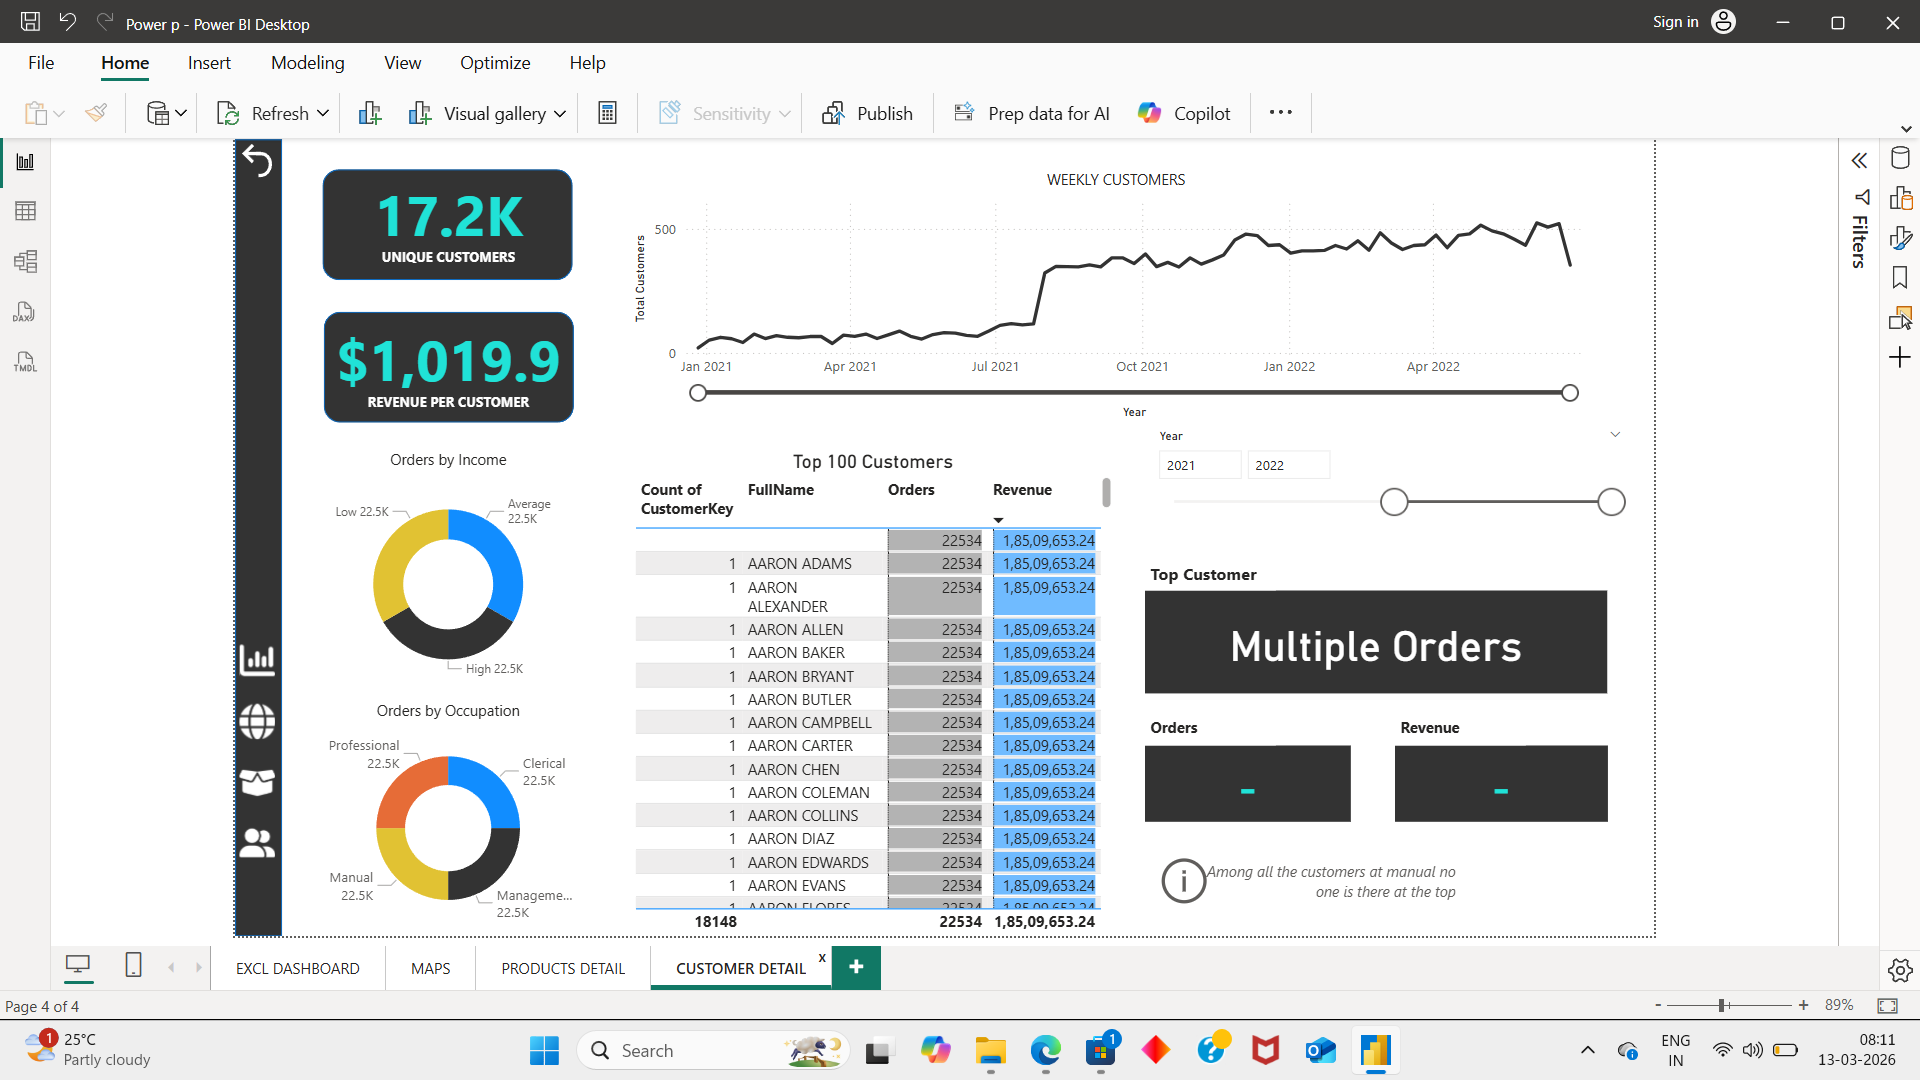

Layout of this report page (visuals, bound fields, positions):
{"tool":"powerbi","page":{"name":"CUSTOMER DETAIL ","canvas":[1280,720],"ordinal":3},"visuals":[{"type":"shape","box":[78.9,27.8,225.6,100],"z":0},{"type":"shape","box":[80,156.7,225.6,100],"z":1000},{"type":"card","fields":{"Values":["Measure Table.Total Customers"]},"box":[74.4,0,236.7,150],"z":2000},{"type":"shape","box":[0,1.2,42.5,718.8],"z":3000},{"type":"card","fields":{"Values":["Measure Table.Average Revenue Per Customer"]},"box":[74.4,131.1,236.7,150],"z":4000},{"type":"lineChart","title":"WEEKLY CUSTOMERS","fields":{"Category":["Calendar Lookup.Start of Week.Variation.Date Hierarchy.Year","Calendar Lookup.Start of Week.Variation.Date Hierarchy.Quarter","Calendar Lookup.Start of Week.Variation.Date Hierarchy.Month","Calendar Lookup.Start of Week.Variation.Date Hierarchy.Day"],"Y":["Measure Table.Total Customers"]},"box":[355,28.2,879.2,228.8],"z":5000},{"type":"donutChart","title":"Orders by Income ","fields":{"Category":["Customer Lookup.Income Level"],"Y":["Measure Table.Total Orders"]},"box":[74.3,280.4,236.1,226.5],"z":6000},{"type":"donutChart","title":"Orders by Occupation","fields":{"Category":["Customer Lookup.Occupation"],"Y":["Measure Table.Total Orders"]},"box":[74,507,236,213],"z":7000},{"type":"tableEx","title":"Top 100 Customers","fields":{"Values":["CountNonNull(Customer Lookup.CustomerKey)","Customer Lookup.FullName","Measure Table.Total Orders","Measure Table.Total Revenue"]},"box":[354.6,281.3,440.2,439],"z":8000},{"type":"card","fields":{"Values":["Min(Customer Lookup.FullName(Customer Detail))"]},"box":[820.8,407.7,417,92.9],"z":9000},{"type":"card","fields":{"Values":["Measure Table.Total Orders (Customer Detail)"]},"box":[820.8,548.3,185.9,68.5],"z":10000},{"type":"card","fields":{"Values":["Measure Table.Total Orders (Customer Detail)"]},"box":[1045.8,548.3,192,68.5],"z":11000},{"type":"textbox","box":[820.8,377.1,117.4,30.6],"z":12000},{"type":"textbox","box":[820.8,517.7,117.4,30.6],"z":13000},{"type":"textbox","box":[1045.8,517.7,117.4,30.6],"z":14000},{"type":"slicer","fields":{"Values":["Calendar Lookup.Date.Variation.Date Hierarchy.Year"]},"box":[820.5,256.8,441.4,95.4],"z":15000},{"type":"actionButton","box":[829.1,643.2,275.1,52.6],"z":16000},{"type":"actionButton","box":[0,0,42.8,40.4],"z":17000},{"type":"actionButton","box":[0,451.2,42.8,40.4],"z":18000},{"type":"actionButton","box":[0,506.3,42.8,40.4],"z":19000},{"type":"actionButton","box":[0,561.3,42.8,40.4],"z":20000},{"type":"actionButton","box":[0,615.1,42.8,40.4],"z":21000}]}

Visuals, with their boxes on the page's 1280x720 design canvas (x1, y1, x2, y2). These are canvas units, not pixel positions in the 1920x1080 screenshot, which may show the page scaled, cropped or inside an application window:
shape: 79:28:304:128
shape: 80:157:306:257
card - Measure Table.Total Customers: 74:0:311:150
shape: 0:1:42:720
card - Measure Table.Average Revenue Per Customer: 74:131:311:281
"WEEKLY CUSTOMERS" lineChart: 355:28:1234:257
"Orders by Income " donutChart: 74:280:310:507
"Orders by Occupation" donutChart: 74:507:310:720
"Top 100 Customers" tableEx: 355:281:795:720
card - Min(Customer Lookup.FullName(Customer Detail)): 821:408:1238:501
card - Measure Table.Total Orders (Customer Detail): 821:548:1007:617
card - Measure Table.Total Orders (Customer Detail): 1046:548:1238:617
textbox: 821:377:938:408
textbox: 821:518:938:548
textbox: 1046:518:1163:548
slicer - Calendar Lookup.Date.Variation.Date Hierarchy.Year: 820:257:1262:352
actionButton: 829:643:1104:696
actionButton: 0:0:43:40
actionButton: 0:451:43:492
actionButton: 0:506:43:547
actionButton: 0:561:43:602
actionButton: 0:615:43:656
